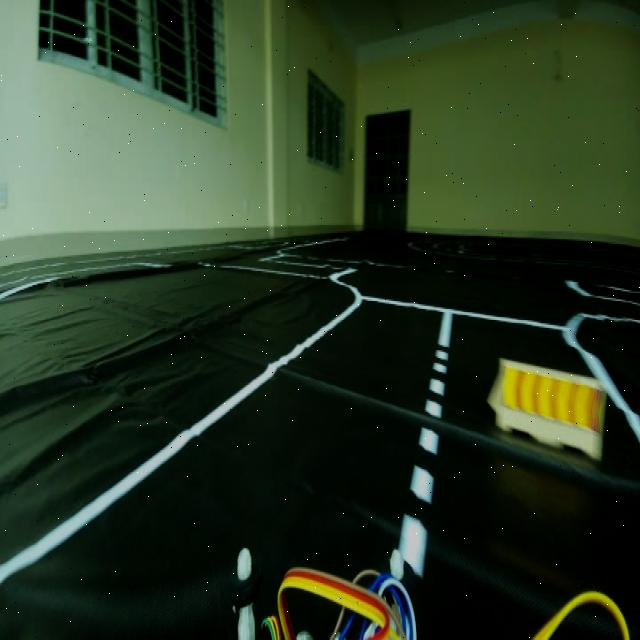roadblock: (477, 345, 609, 468)
